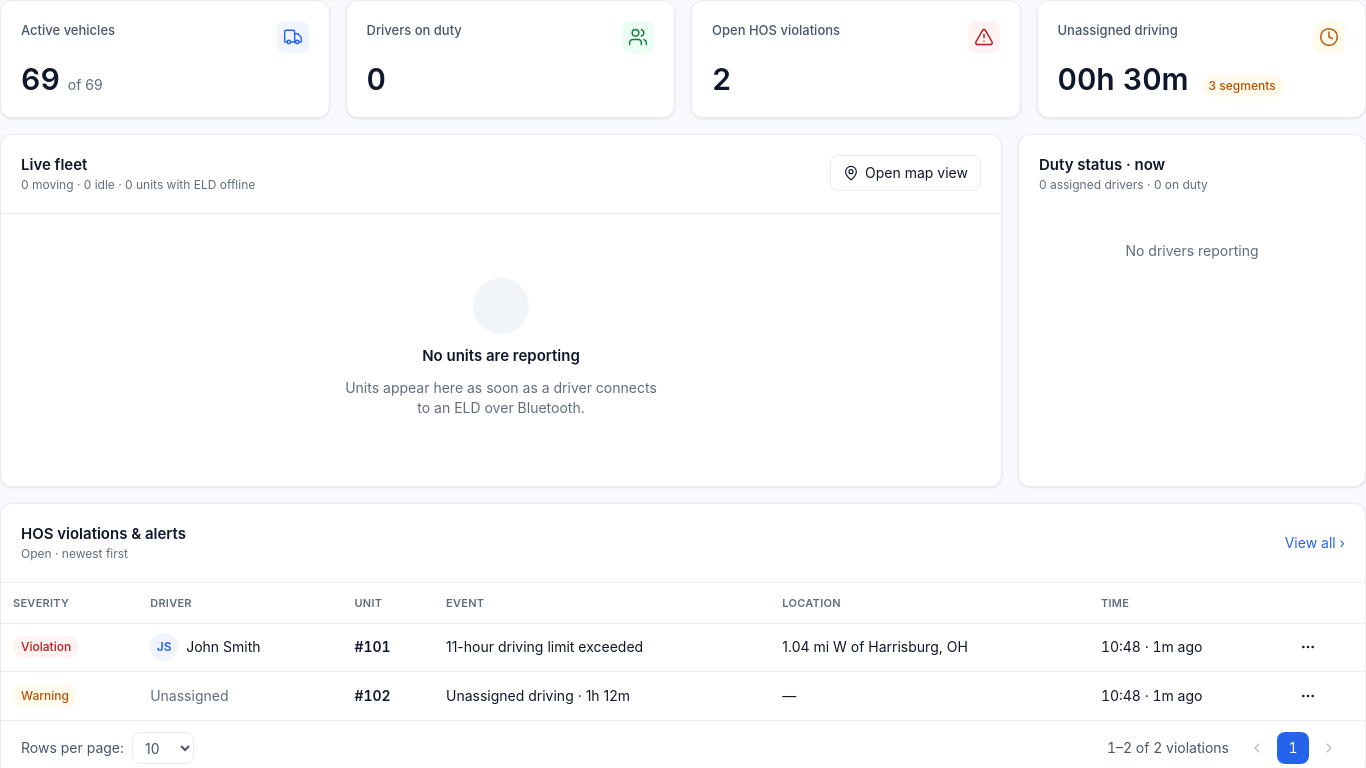
Test: W-01 Fleet Dashboard › HOS violations & alerts · row menu › lists Open HOS logs · Send message · Resolve for a driver row, and Assign to driver only for an unassigned one
The image size is (1366, 768).
Expected: the text "11-hour driving limit exceeded" is shown, [434,624,770,672]
Click the button named "Row actions" in the row of "JS". click: (1308, 647)
box: [1292,631,1324,663]
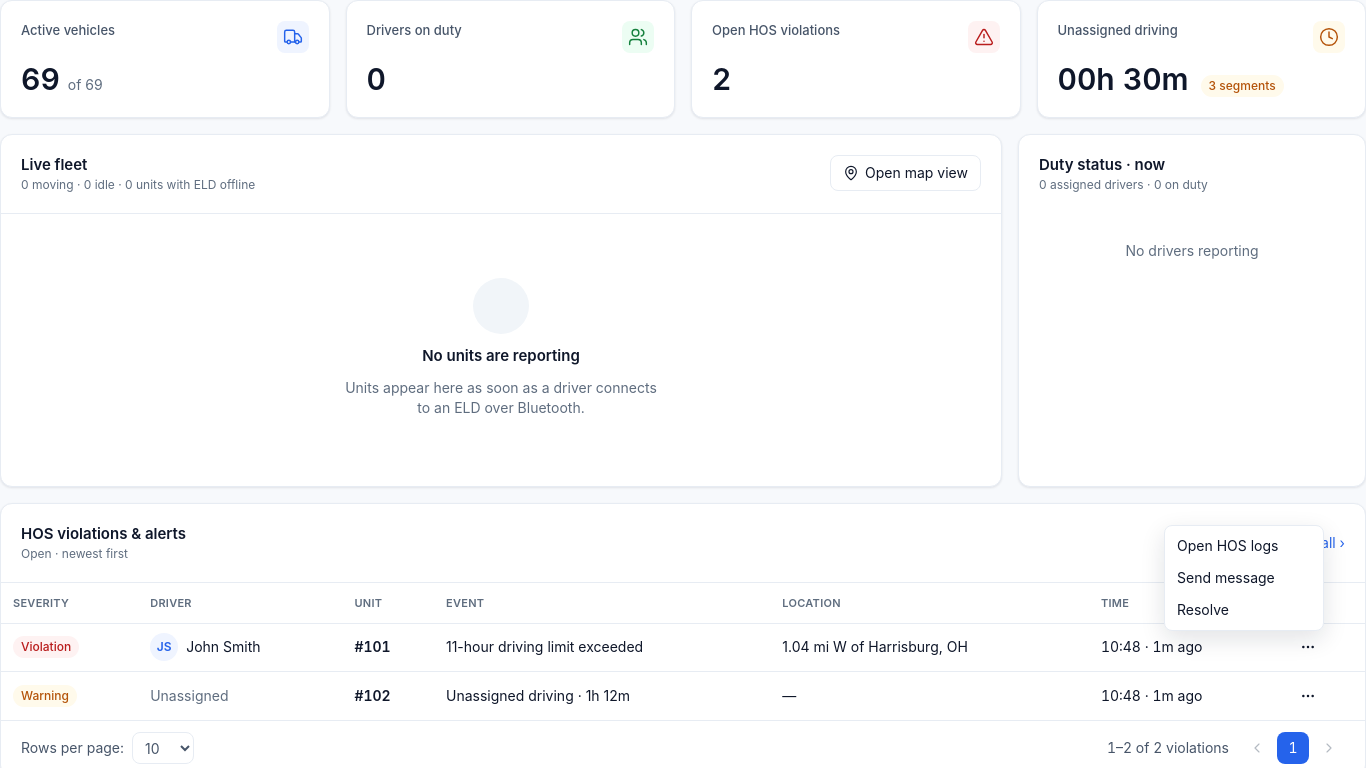
Now the menu items read "Open HOS logs", "Send message", "Resolve", in this order, box [1177,537,1278,554]; [1177,569,1275,586]; [1177,601,1229,618]
Press Escape
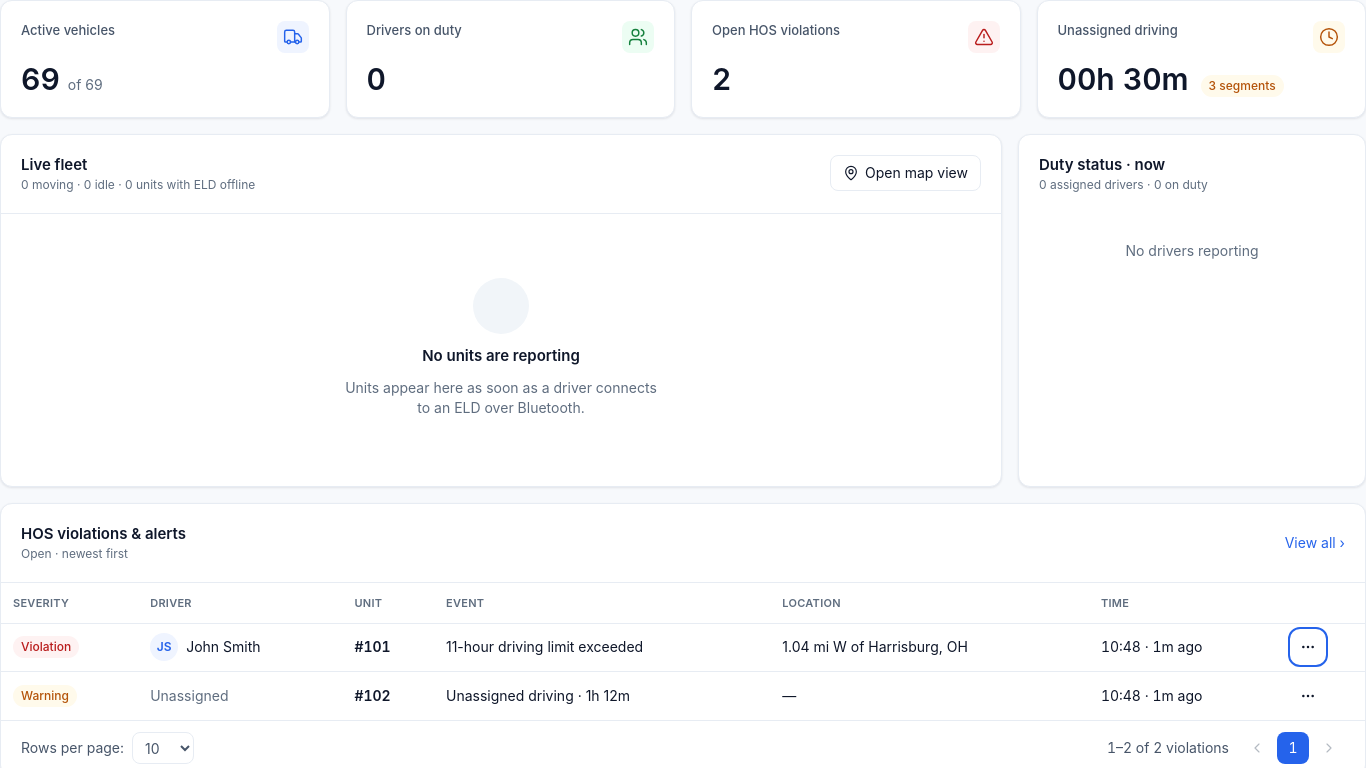
Expected: the text "11-hour driving limit exceeded" is shown, [434,624,770,672]
Click the button named "Row actions" in the row of "Warning". click: (1308, 696)
box: [1292,680,1324,712]
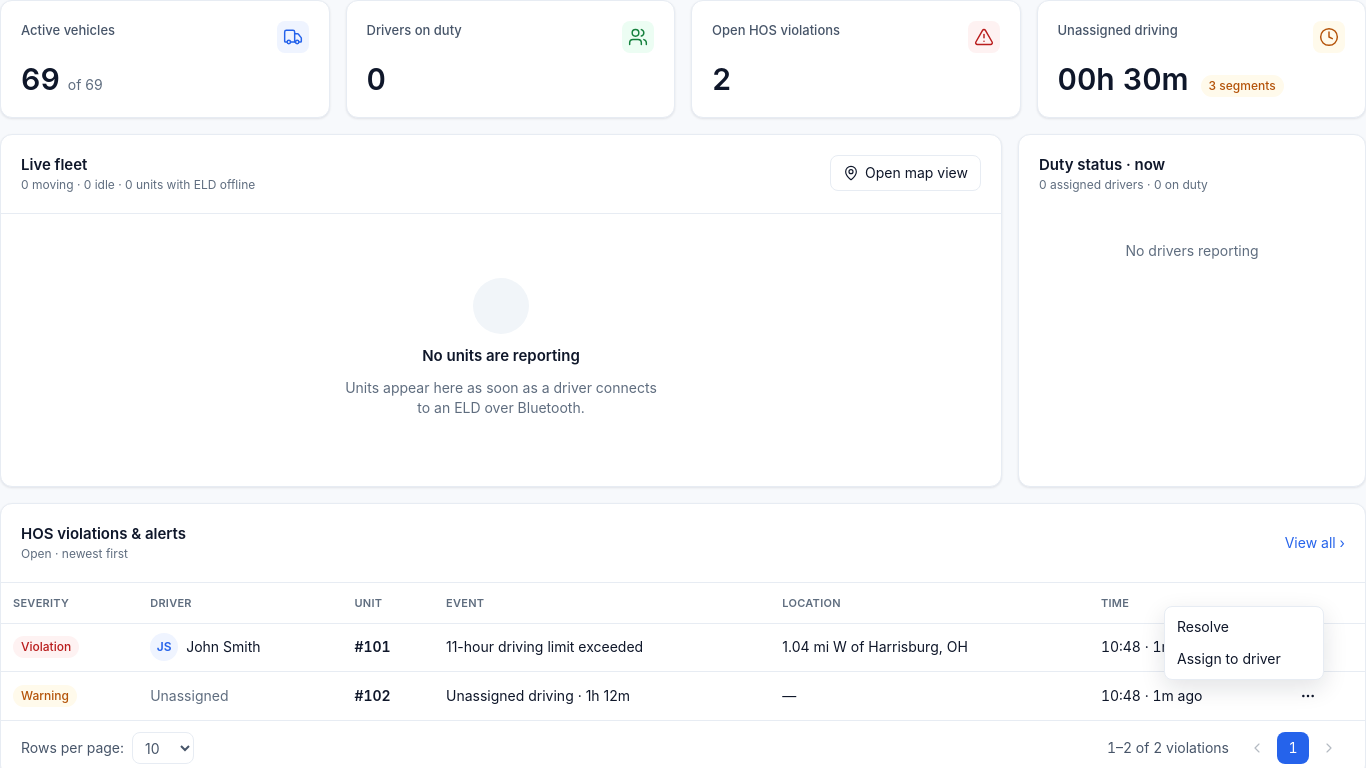
Now the menu items read "Resolve", "Assign to driver", in this order, box [1177,618,1229,635]; [1177,650,1281,667]
